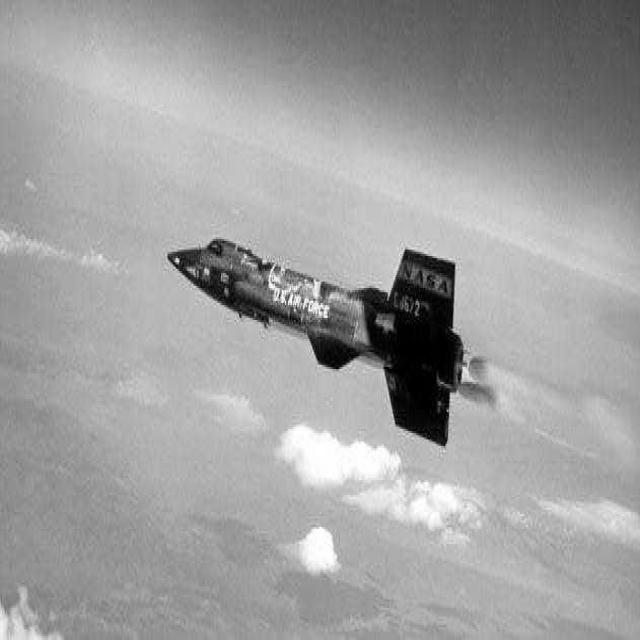Aircraft: (160, 200, 481, 452)
